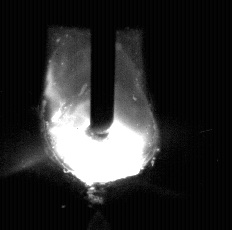arame: (91, 0, 115, 142)
poca: (49, 0, 158, 230)
